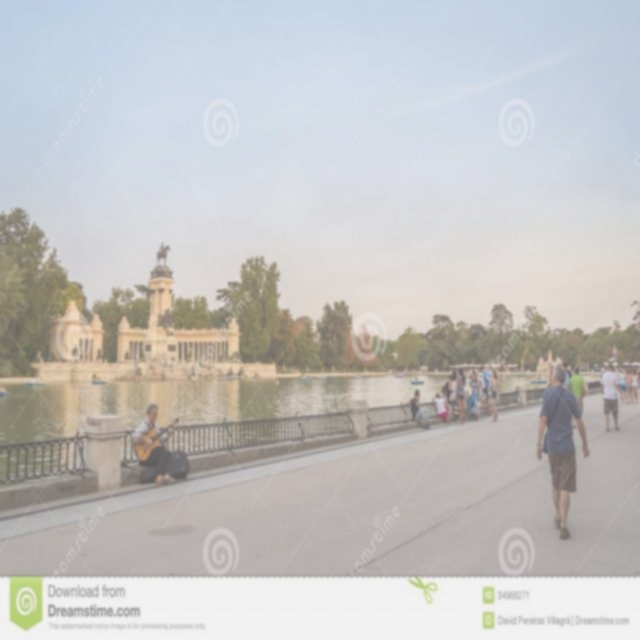pessoa: (535, 363, 591, 541), (130, 401, 177, 487), (599, 362, 624, 434), (401, 388, 432, 432), (568, 366, 586, 430), (544, 364, 560, 427), (578, 361, 640, 376), (470, 374, 488, 418), (431, 390, 454, 424), (488, 368, 502, 423), (454, 367, 467, 425), (149, 354, 175, 380), (479, 365, 492, 416), (184, 360, 214, 380), (448, 369, 458, 416), (449, 367, 532, 372), (618, 367, 628, 405), (630, 368, 640, 405), (468, 371, 481, 396), (562, 361, 571, 393), (626, 365, 633, 405), (562, 362, 570, 390), (444, 374, 452, 401), (440, 385, 448, 405), (242, 358, 262, 366), (92, 372, 106, 382), (302, 367, 312, 380), (216, 368, 228, 378), (530, 372, 542, 382), (33, 374, 44, 384), (316, 366, 324, 379), (636, 374, 640, 396), (0, 382, 7, 394), (134, 366, 142, 376), (352, 370, 362, 378), (566, 367, 572, 380), (394, 370, 402, 378), (432, 365, 439, 373), (413, 375, 419, 383), (136, 352, 140, 362), (243, 372, 248, 379)
